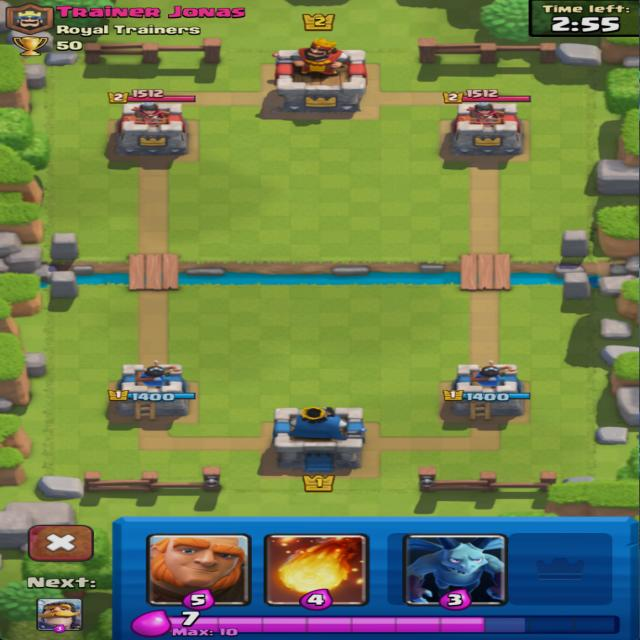7_Elixer: (183, 611, 201, 626)
Elixer_Bar: (128, 608, 622, 638)
Empty_Card: (509, 531, 614, 607)
Fireball_Card: (264, 534, 369, 612)
Giant_Card: (145, 534, 252, 612)
Knight_Next: (25, 576, 98, 633)
